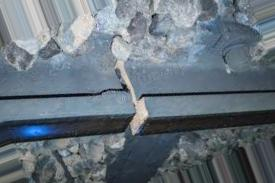tracks_fault: (99, 58, 165, 144)
